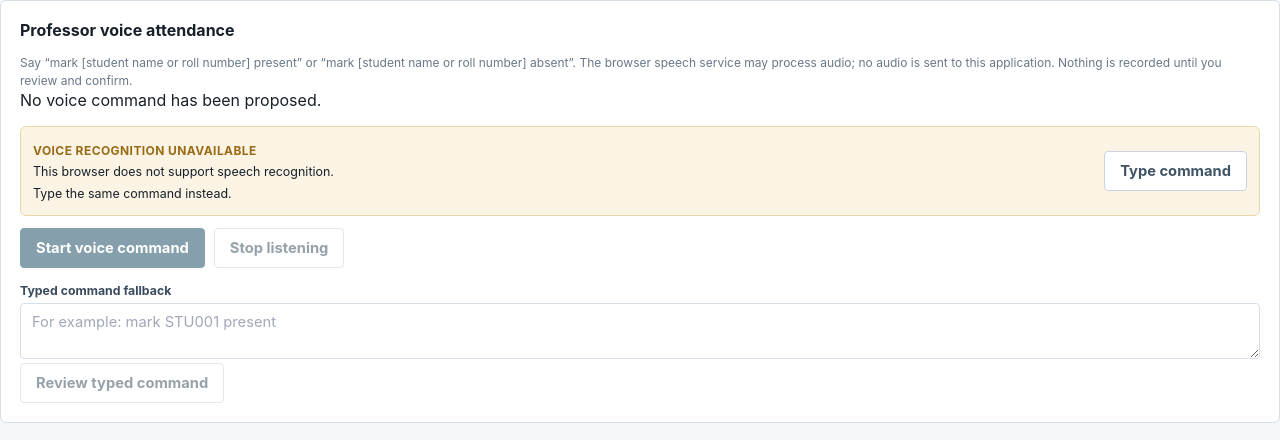
Test: VoiceAttendancePanel › uses typed fallback and rejects unmatched names without submitting
The image size is (1280, 440).
In the text box labelled "Typed command fallback": (640, 331) 20,303 -> 1260,359, type "mark UNKNOWN present"
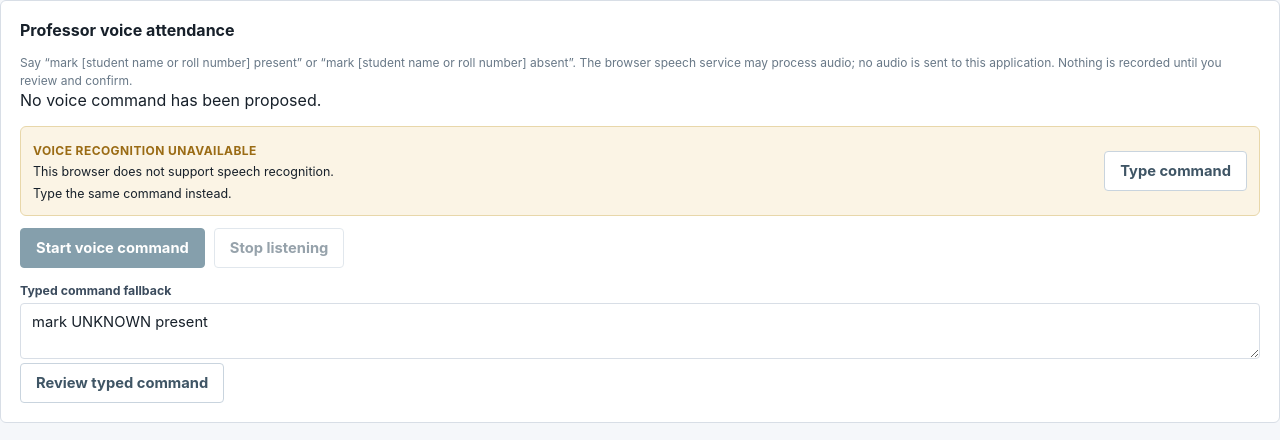
Click the button "Review typed command": (122, 383) 20,363 -> 224,403
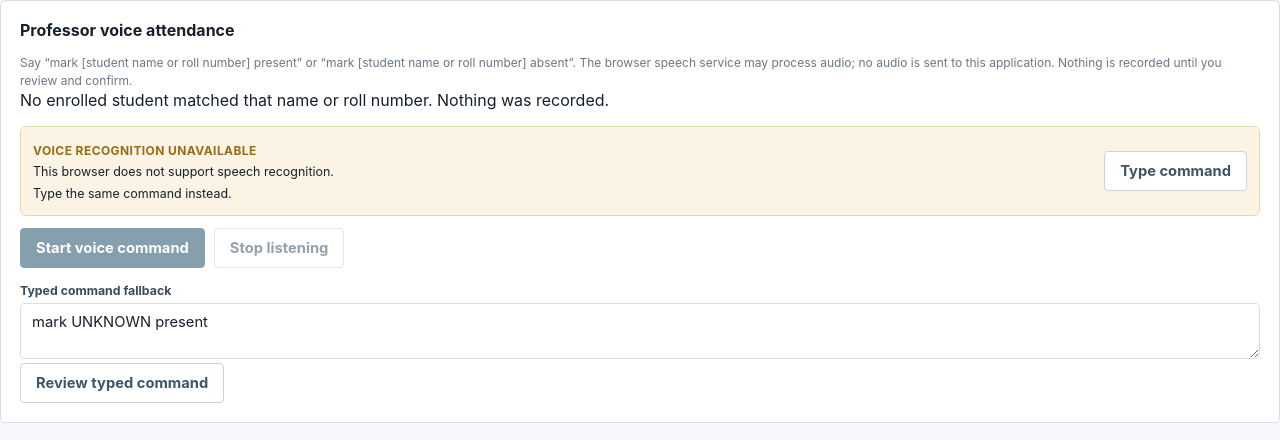
Expected: the text "No enrolled student matched that name or roll number. Nothing was recorded." is shown, 20,90 -> 609,110
